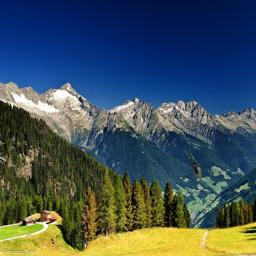Cuckoo: (184, 150, 202, 181)
